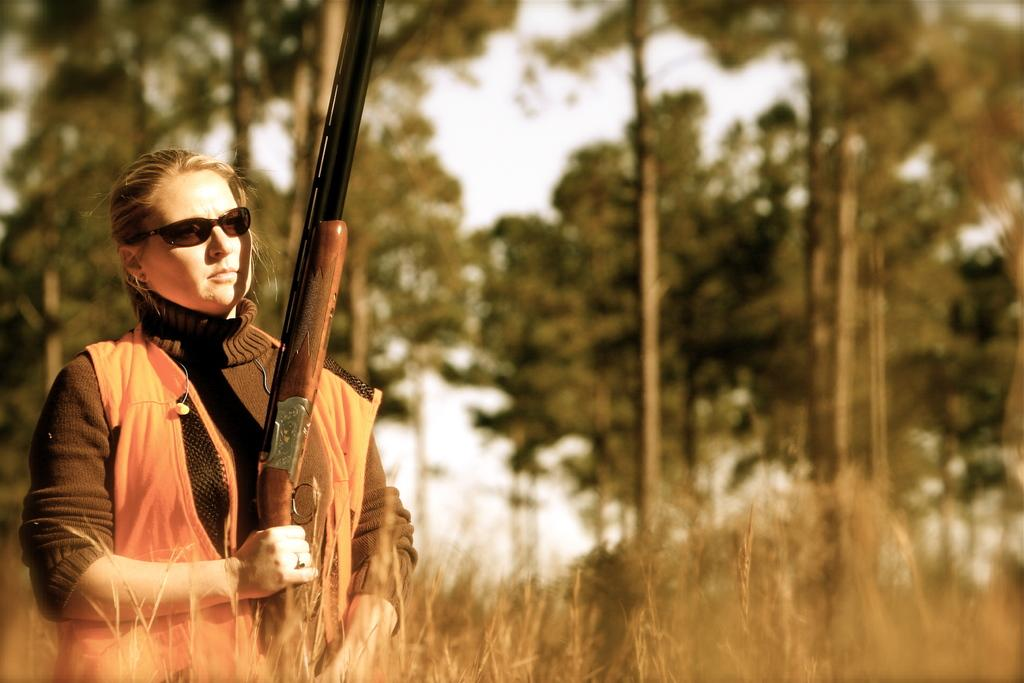Shotgun: (253, 0, 383, 682)
